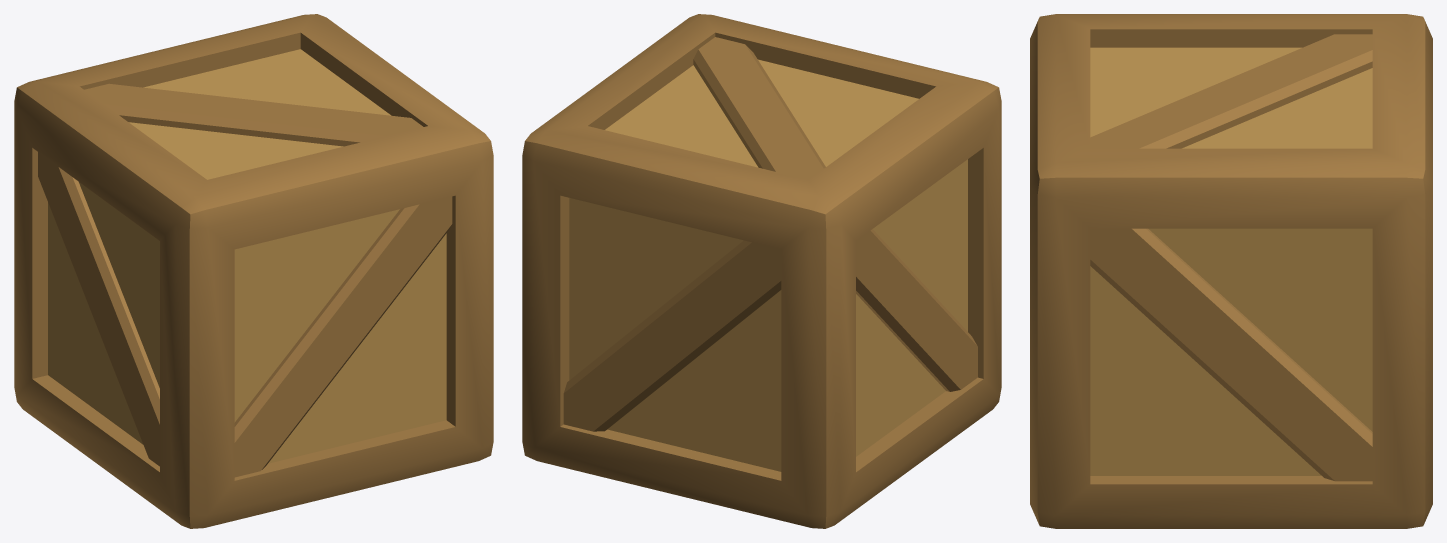
File: Cube_Crate.gltf
3 renders of one model, left to right at view 1: azimuth 30°, elevation 25°; view 2: azimuth 150°, elevation 25°; view 3: azimuth 270°, elevation 25°, orthographic. The views are drawn at different scales.
Visible parts, largest first — view 1: Cube_Crate; view 2: Cube_Crate; view 3: Cube_Crate.
Part boxes in pixels (x1,y1,x2,y2): Cube_Crate: [14, 14, 493, 528]; Cube_Crate: [522, 14, 1001, 528]; Cube_Crate: [1030, 14, 1432, 528].
Size of the model in its own units: 2.02 by 2.02 by 2.02.
